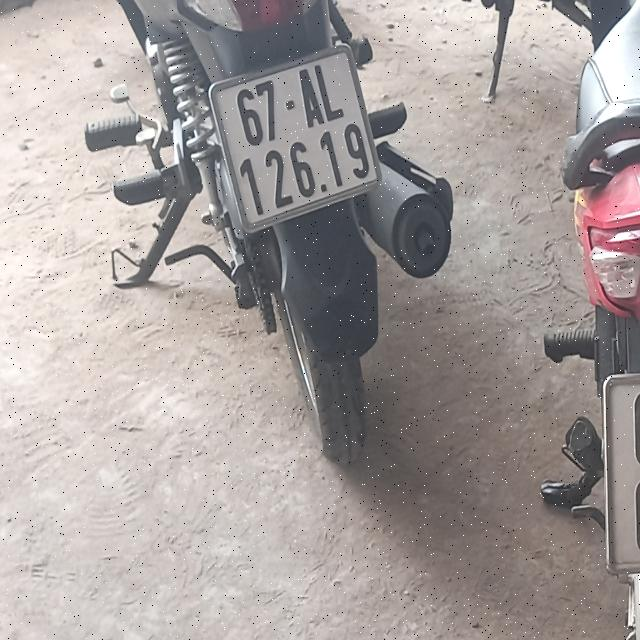1: (238, 158, 264, 216), (319, 130, 342, 188)
2: (264, 149, 292, 207)
6: (236, 89, 263, 147), (289, 142, 316, 197)
7: (255, 78, 276, 140)
9: (345, 122, 369, 180)
A: (298, 69, 324, 128)
L: (314, 64, 345, 121)
